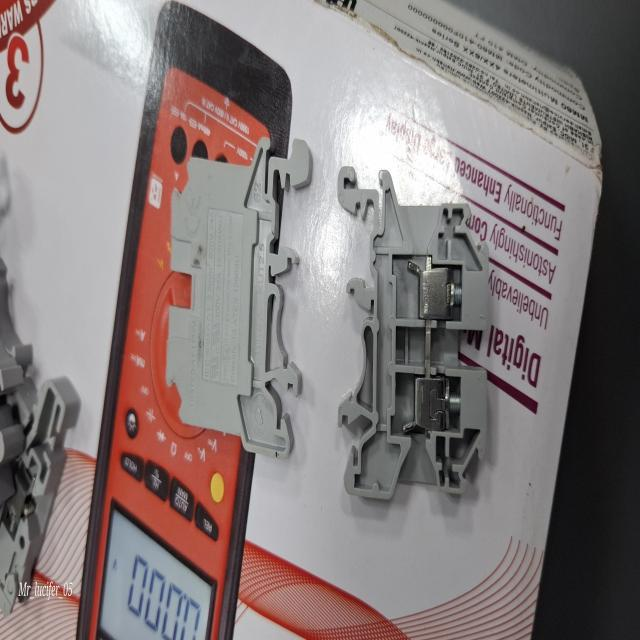Inverted: (155, 100, 315, 515)
Pass: (329, 121, 507, 528)
